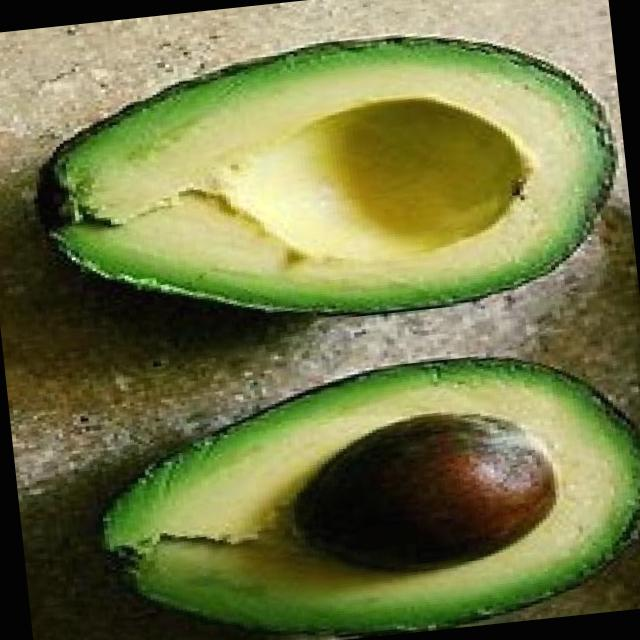avocado: (11, 0, 631, 362), (78, 324, 640, 640)
